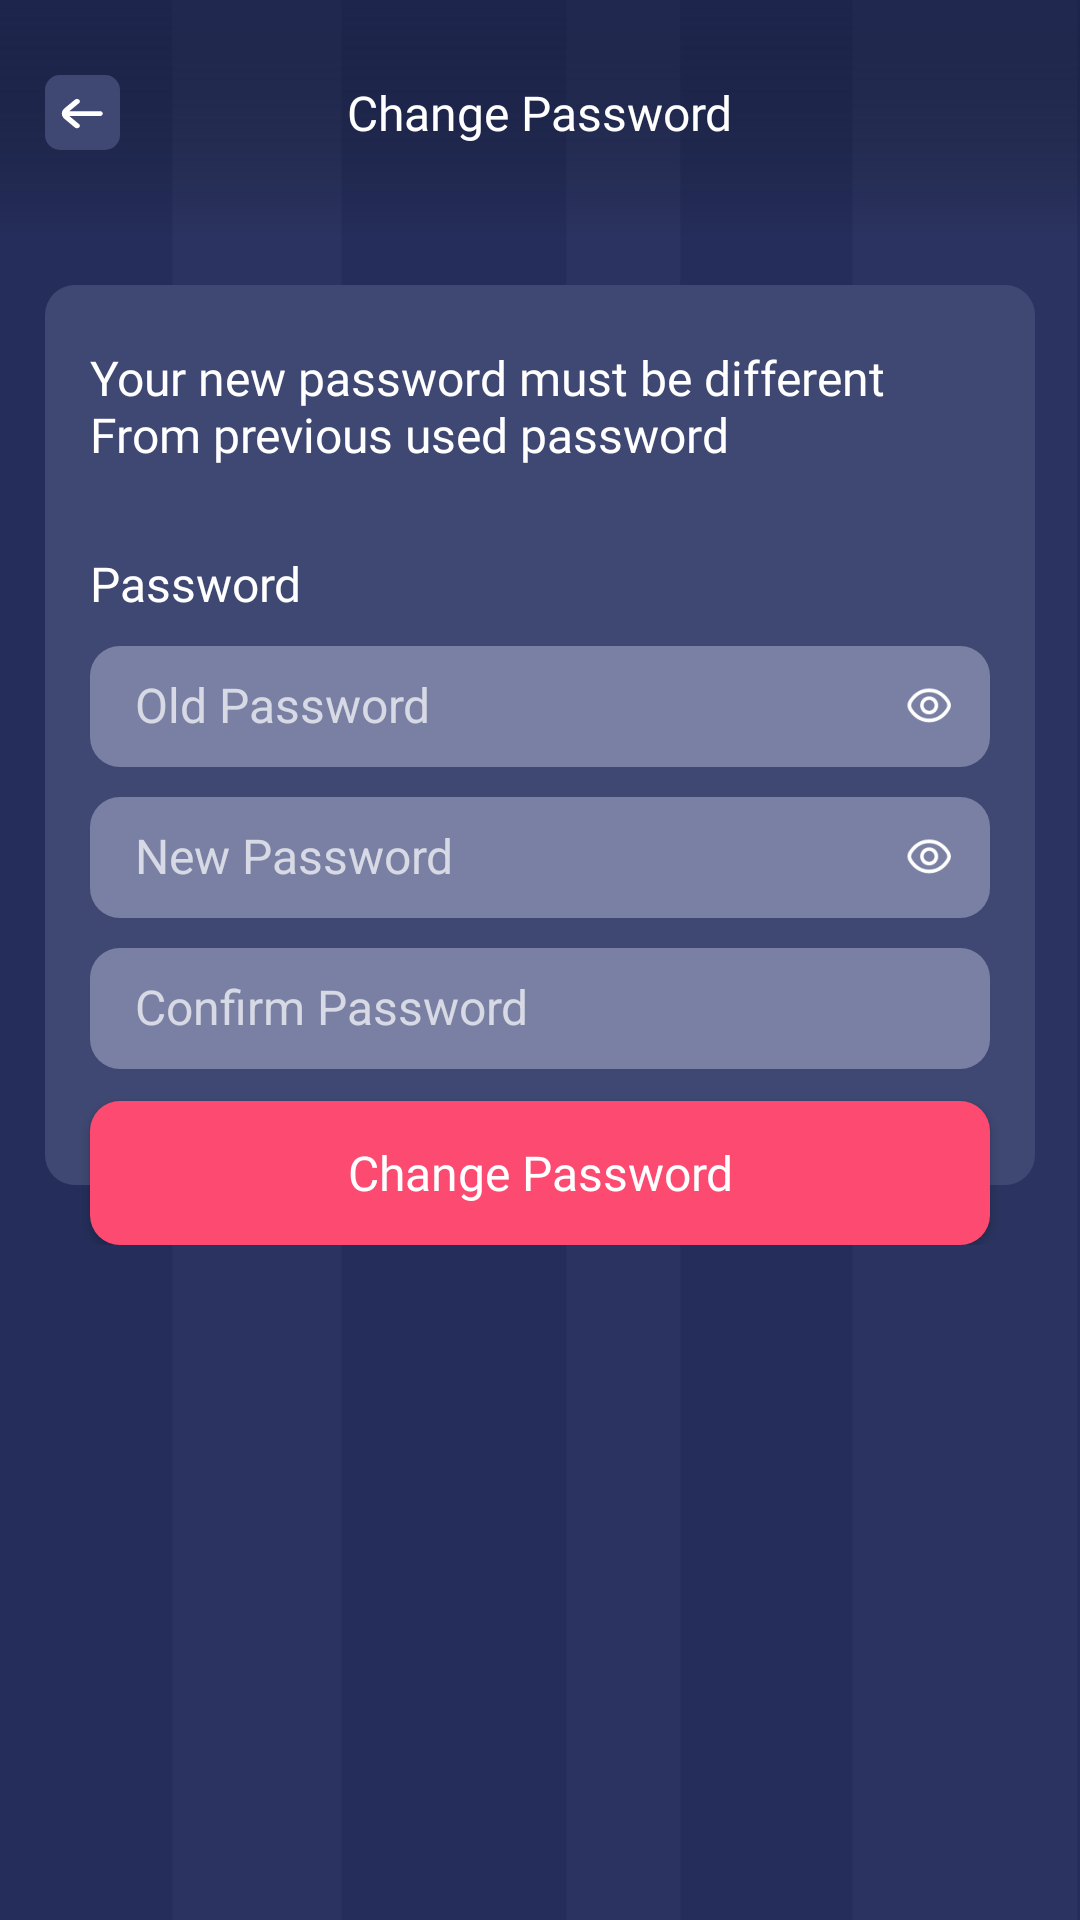

Icons on this 1080px x 1920px Android screen, each with its box as region(x1, y1, x2, y2):
back arrow: region(45, 75, 120, 150)
eye show: region(907, 688, 951, 723), region(907, 839, 951, 874)
